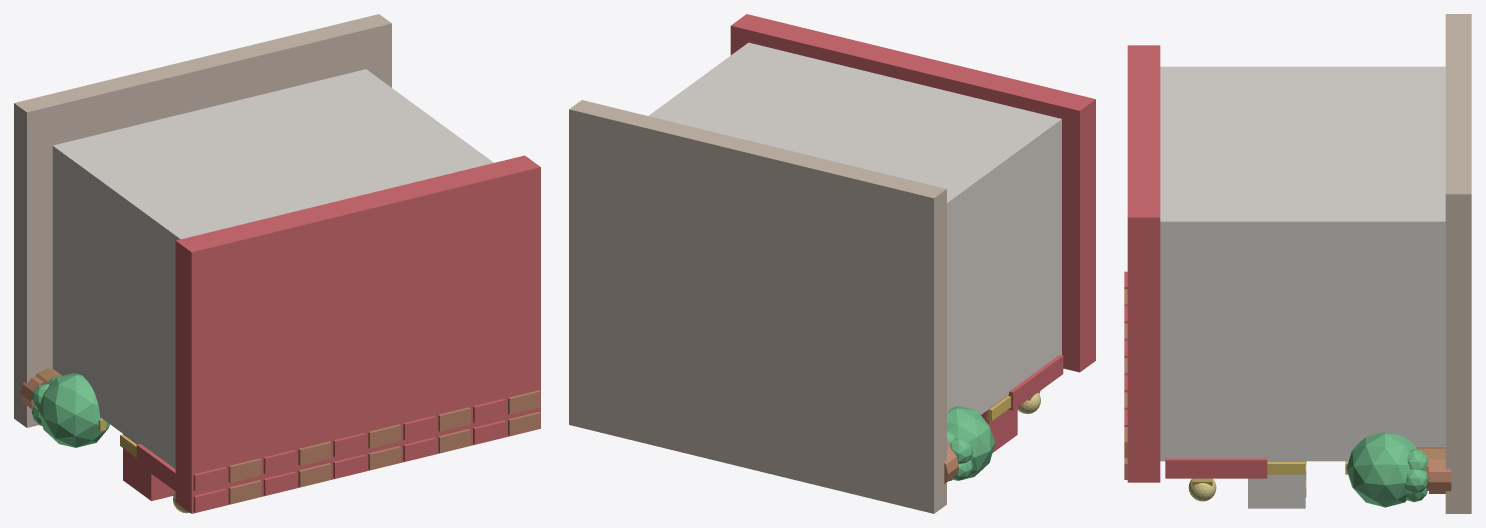
File: minimart.glb
3 views of the same model, side by side, from view 1: azimuth 30°, elevation 25°; view 2: azimuth 150°, elevation 25°; view 3: azimuth 270°, elevation 25° (orthographic).
Parts seen in each view (by area): view 1: roof_2, walls_1, plinth_0, plant_20, awning_5, signboard_3, detail_roof_tile_34, detail_roof_tile_46, detail_roof_tile_35, detail_roof_tile_44, detail_roof_tile_45, detail_roof_tile_36 (+14 smaller); view 2: plinth_0, walls_1, roof_2, plant_20, signboard_3, awning_5; view 3: walls_1, roof_2, plinth_0, plant_22, signboard_3, awning_12, detail_flower_pot_27, detail_window_trim_5, detail_foliage_28, detail_sconce_glow_9.
Part boxes in pixels (x1,y1,x2,y2): roof_2: [175, 155, 540, 513]; walls_1: [52, 69, 493, 468]; plinth_0: [14, 14, 391, 427]; plant_20: [38, 373, 109, 447]; awning_5: [123, 434, 174, 500]; signboard_3: [136, 444, 175, 491]; detail_roof_tile_34: [193, 488, 226, 512]; detail_roof_tile_46: [263, 450, 296, 474]; detail_roof_tile_35: [228, 480, 261, 504]; detail_roof_tile_44: [193, 467, 226, 491]; detail_roof_tile_45: [228, 458, 261, 482]; detail_roof_tile_36: [263, 471, 296, 495]; plinth_0: [569, 100, 946, 513]; walls_1: [648, 42, 1061, 414]; roof_2: [730, 14, 1095, 372]; plant_20: [947, 406, 995, 480]; signboard_3: [1008, 354, 1063, 410]; awning_5: [981, 395, 1017, 452]; walls_1: [1160, 66, 1445, 461]; roof_2: [1127, 45, 1160, 482]; plinth_0: [1445, 14, 1471, 513]; plant_22: [1346, 432, 1416, 507]; signboard_3: [1165, 458, 1267, 478]; awning_12: [1248, 461, 1305, 508]; detail_flower_pot_27: [1429, 459, 1451, 493]; detail_window_trim_5: [1267, 462, 1305, 474]; detail_foliage_28: [1405, 469, 1428, 494]; detail_sconce_glow_9: [1188, 479, 1216, 501].
Size of the model in its own units: 4.94 by 3.9 by 3.74.
